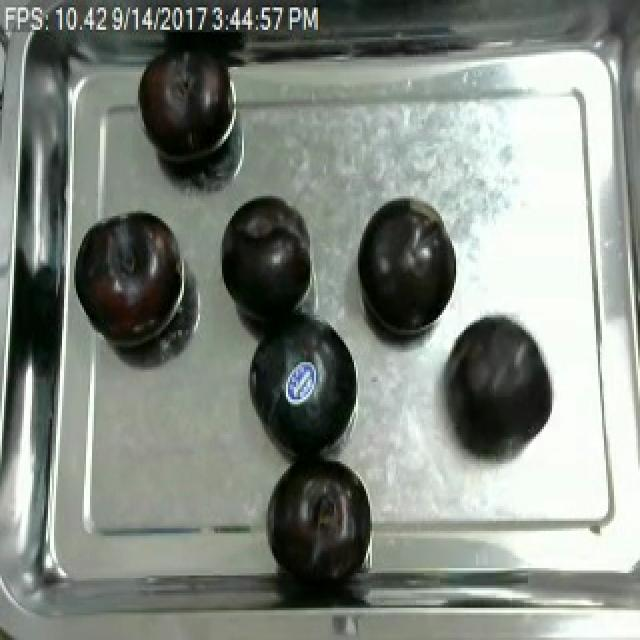Fruit: (240, 303, 362, 462), (70, 203, 188, 355), (440, 310, 558, 461), (350, 191, 458, 342), (128, 34, 240, 174), (214, 188, 316, 328), (264, 456, 374, 576)
